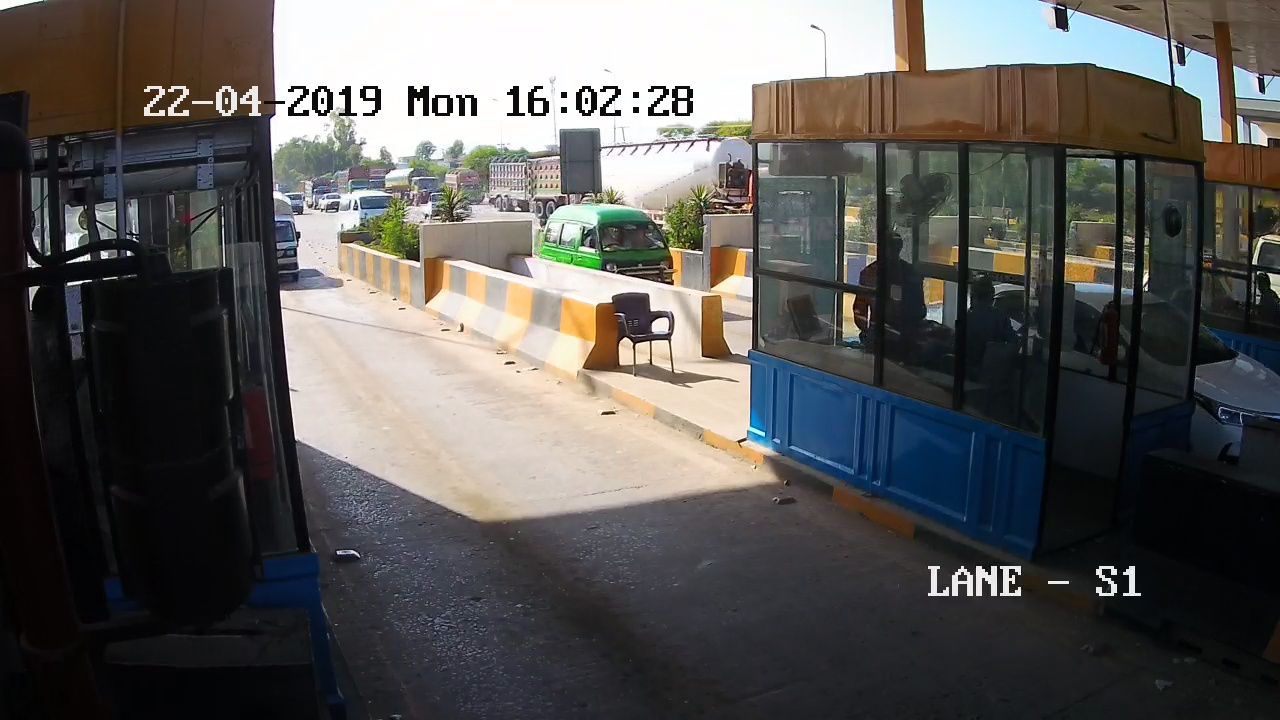car: (266, 196, 310, 287)
